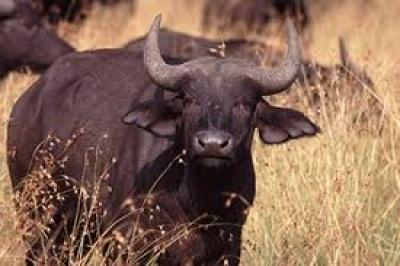buffalo: (7, 16, 319, 265)
